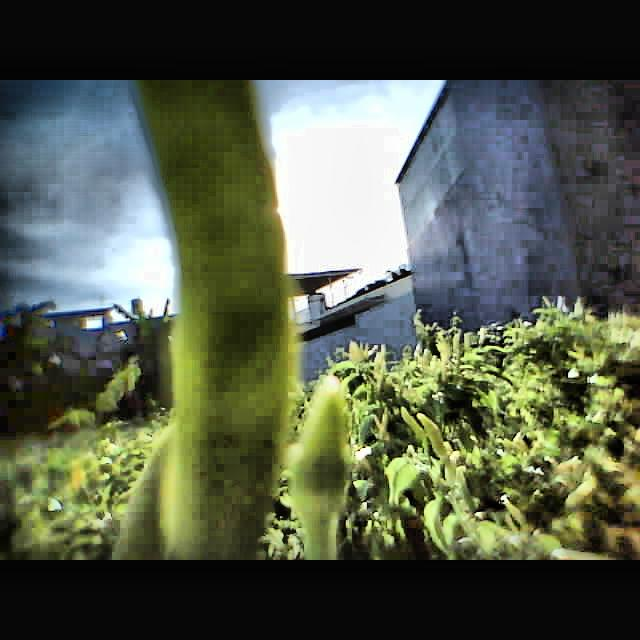Cabai: (134, 85, 296, 560)
